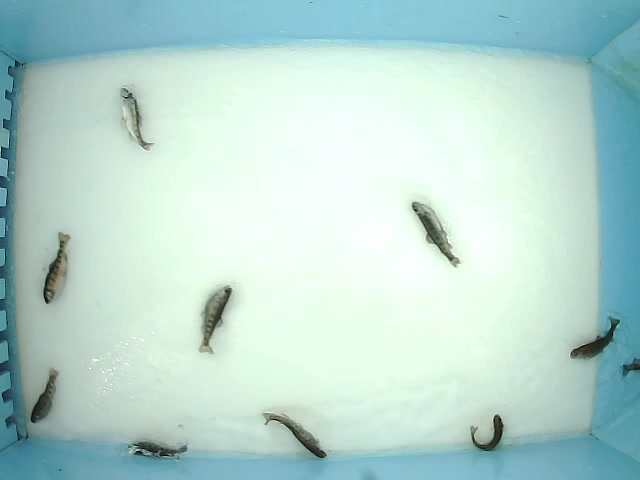fish: (410, 201, 462, 270), (261, 411, 328, 460), (196, 283, 232, 357), (119, 86, 157, 153), (42, 230, 73, 306), (569, 315, 621, 360), (29, 365, 61, 425), (470, 413, 505, 453), (127, 440, 189, 461)
